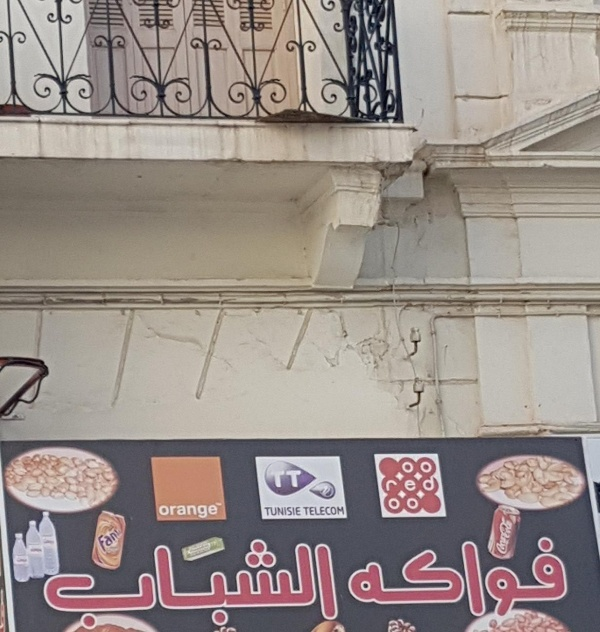text: (49, 538, 64, 630), (65, 538, 80, 630), (81, 538, 96, 630), (97, 538, 112, 630), (113, 538, 128, 630), (129, 538, 144, 630), (145, 538, 160, 630), (161, 538, 176, 630), (177, 538, 192, 630), (193, 538, 208, 630), (209, 538, 224, 630), (225, 538, 240, 630), (241, 538, 256, 630), (257, 538, 272, 630), (273, 538, 288, 630), (289, 538, 304, 630), (305, 538, 320, 630), (321, 538, 336, 630), (353, 539, 368, 617), (369, 539, 384, 617), (385, 539, 400, 617), (401, 539, 416, 617), (417, 539, 432, 617), (433, 539, 448, 617), (449, 539, 464, 617), (465, 539, 480, 617), (481, 539, 496, 617), (497, 539, 512, 617), (513, 539, 528, 617), (529, 539, 544, 617), (545, 539, 560, 617), (561, 539, 569, 617), (500, 516, 512, 556), (347, 539, 352, 617), (44, 538, 48, 630), (337, 538, 341, 630), (97, 530, 112, 552), (273, 470, 288, 488), (385, 475, 400, 492), (401, 475, 416, 492), (417, 475, 432, 492), (289, 470, 301, 488), (417, 462, 433, 474), (161, 506, 176, 518), (177, 506, 192, 518), (193, 506, 208, 518), (401, 462, 416, 474), (401, 498, 416, 510), (305, 506, 320, 516), (321, 506, 336, 516), (388, 498, 400, 510), (273, 508, 288, 516), (113, 530, 118, 552), (209, 506, 218, 518), (289, 508, 302, 516), (337, 506, 345, 516), (265, 508, 272, 516), (433, 475, 436, 492), (513, 516, 514, 556), (417, 498, 420, 510), (158, 506, 160, 518), (95, 530, 96, 552), (271, 470, 272, 488), (303, 506, 304, 516)
